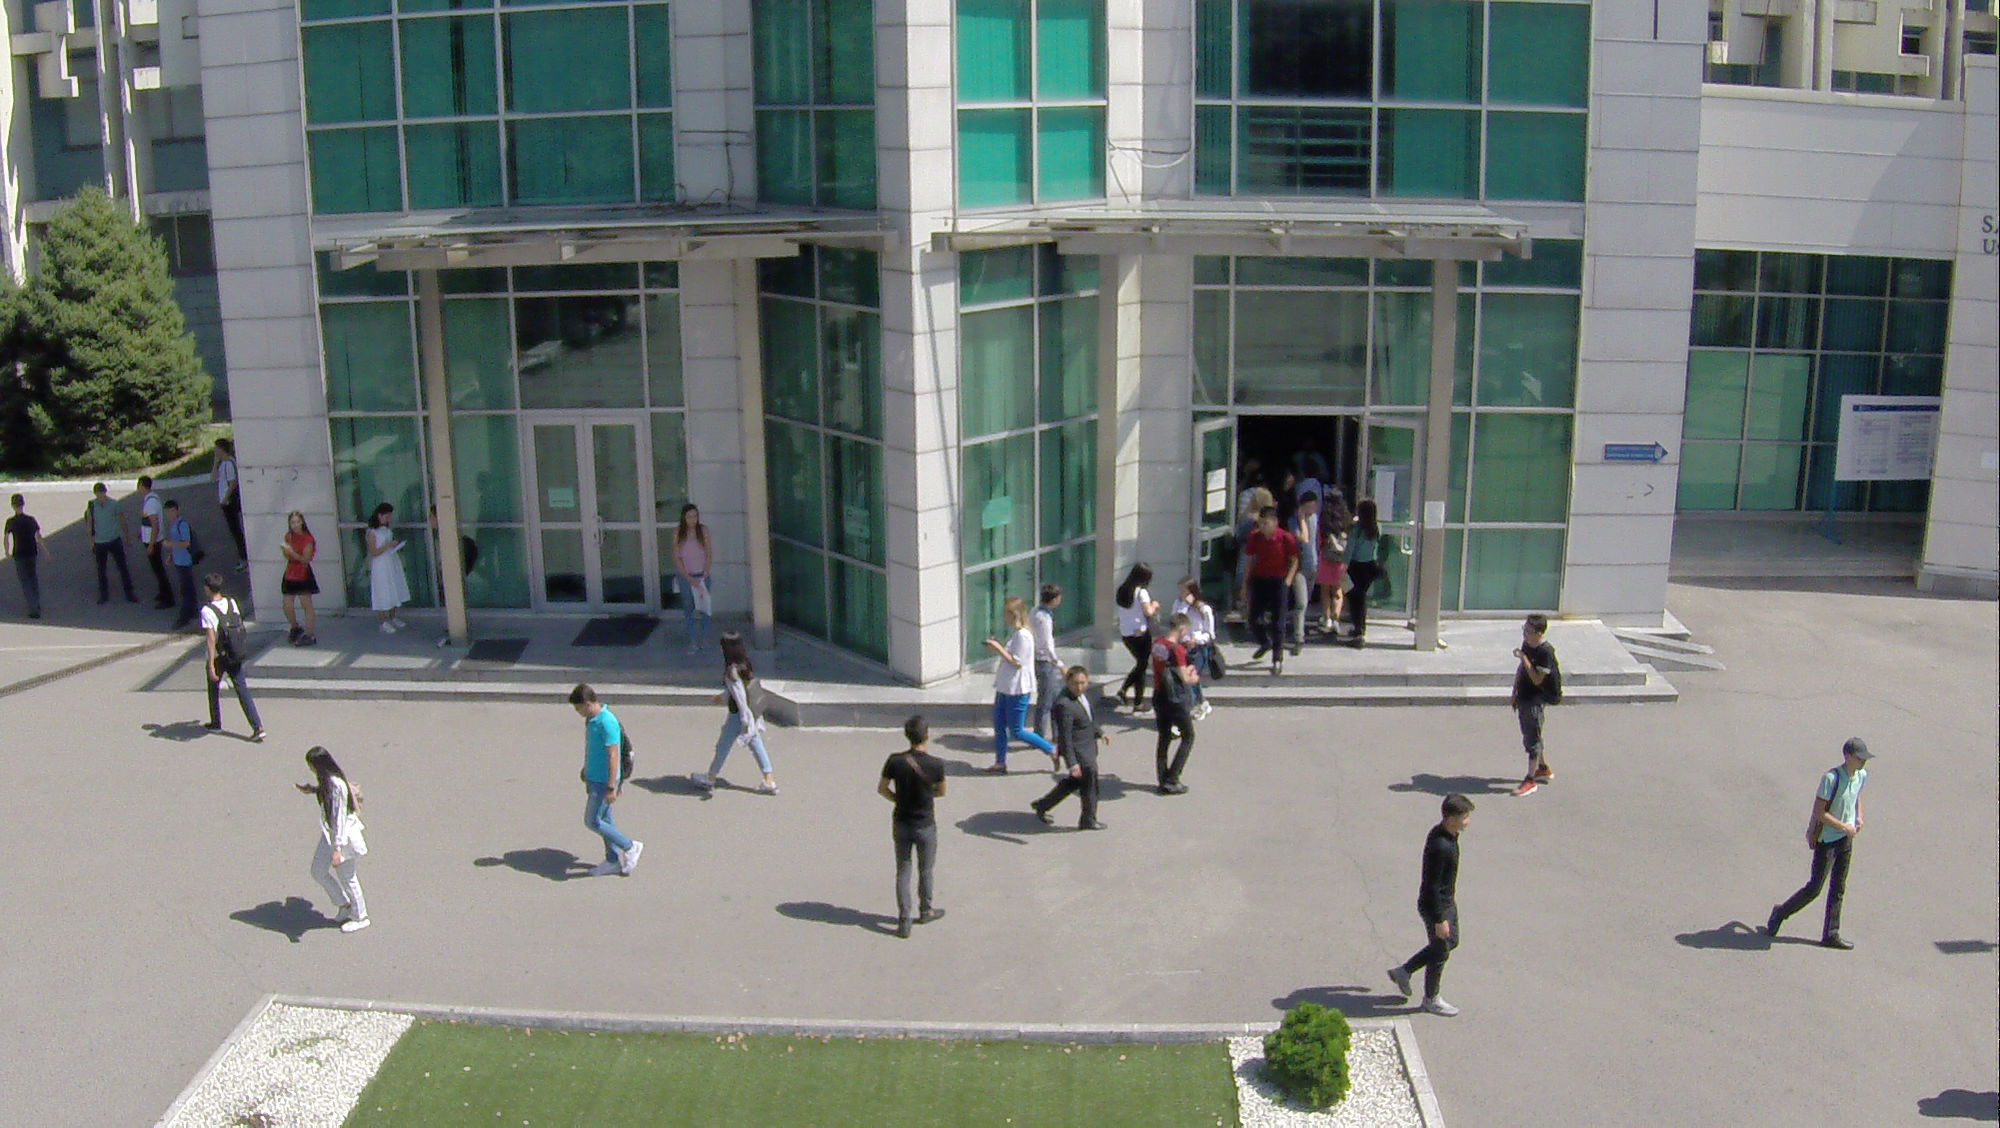person: (1759, 731, 1877, 957), (1376, 791, 1481, 1017), (560, 681, 651, 887), (280, 743, 377, 935), (871, 713, 950, 944), (688, 626, 781, 802), (1021, 667, 1105, 837), (192, 570, 269, 750), (978, 594, 1050, 780), (1508, 608, 1569, 807), (1140, 614, 1197, 799), (1230, 508, 1290, 673), (665, 493, 720, 662), (360, 500, 413, 638), (80, 479, 135, 613), (1111, 550, 1155, 713), (1, 489, 53, 624), (277, 509, 326, 650), (1346, 497, 1390, 650), (160, 500, 202, 635), (206, 439, 242, 565), (132, 473, 164, 604), (1171, 569, 1215, 633)
